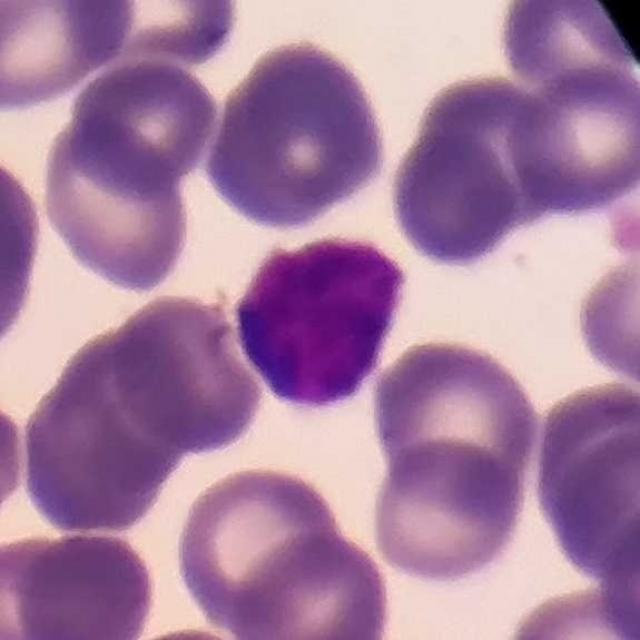Lymphocyte: (225, 226, 416, 421)
RBC: (199, 31, 395, 237), (14, 330, 192, 538), (384, 77, 554, 275), (169, 460, 353, 636), (366, 332, 544, 505), (36, 116, 196, 297), (106, 288, 268, 459), (365, 437, 531, 589), (59, 55, 224, 194), (527, 377, 640, 569), (502, 59, 639, 215), (229, 528, 396, 640), (9, 526, 161, 640), (0, 0, 137, 117), (488, 0, 638, 104), (63, 0, 247, 73), (0, 138, 50, 373), (569, 235, 640, 391), (0, 530, 82, 640), (499, 582, 639, 640), (593, 502, 640, 640), (0, 382, 30, 543), (100, 623, 272, 640)
